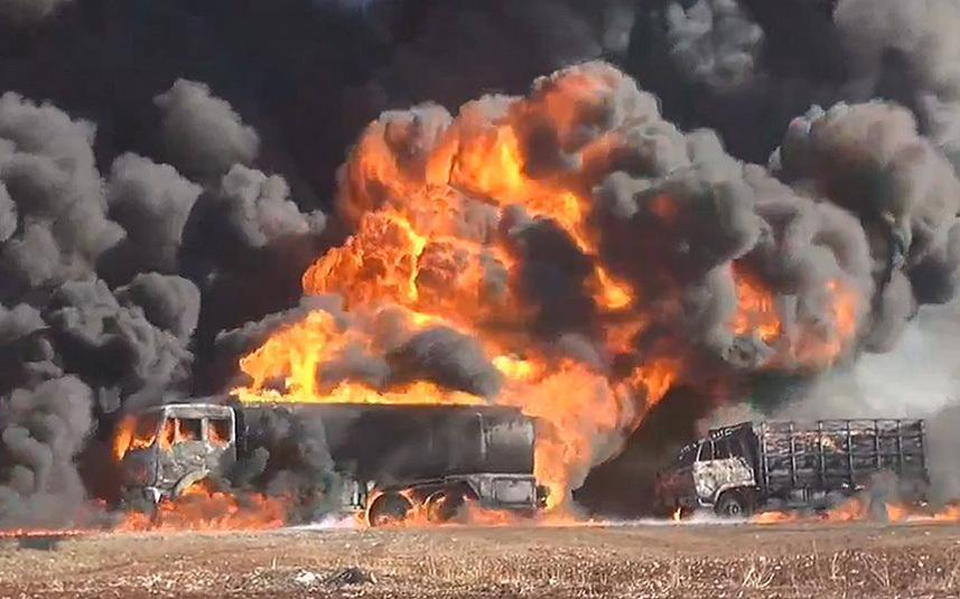fire: (211, 107, 802, 493)
